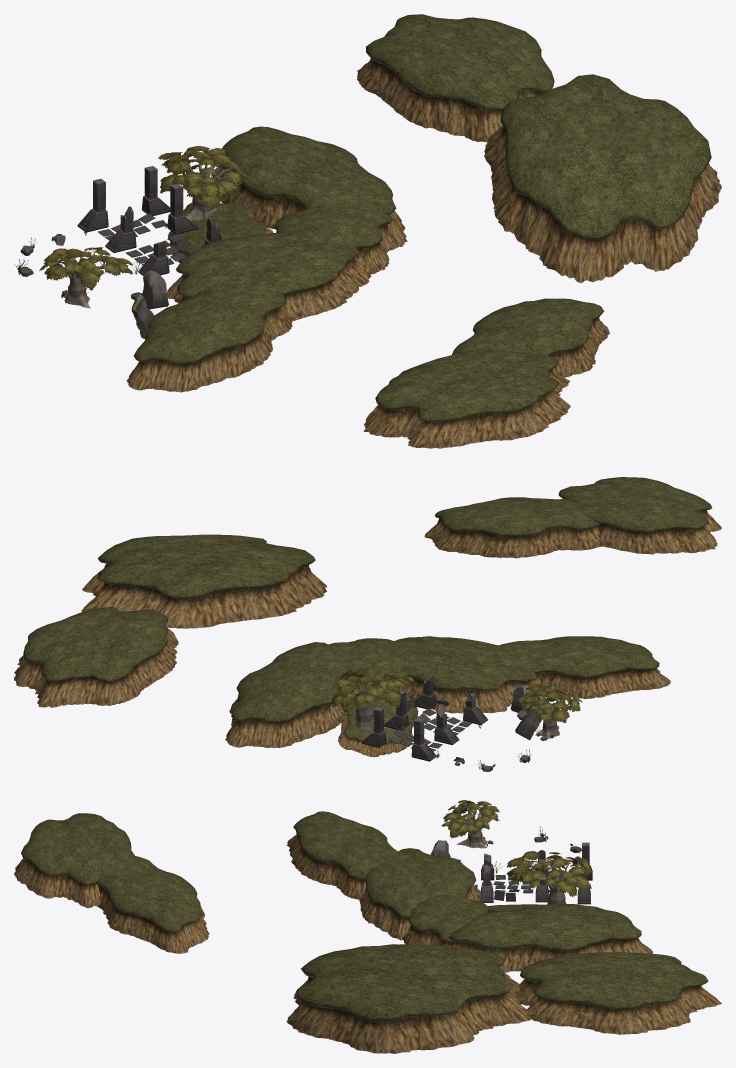
Rendered from env_dan_jedi_grove_pre.glb.
The picture shows the model from 3 angles, top to bottom: view 1: azimuth 30°, elevation 25°; view 2: azimuth 150°, elevation 25°; view 3: azimuth 270°, elevation 25°; orthographic projection. The views are drawn at different scales.
Parts seen in each view (by area): view 1: dan_bluff_01_mesh (8), dan_bluff_01_mesh (9), dan_bluff_01_mesh (6), dan_bluff_01_mesh (2), dan_bluff_01_mesh (3), dan_bluff_01_mesh, dan_bluff_01_mesh (7), dan_bluff_01_mesh (1), dan_tree_01_mesh (1), dan_tree_01_mesh, dan_bluff_01_mesh (5), dan_pillar_01a_mesh (+4 smaller); view 2: dan_bluff_01_mesh (8), dan_bluff_01_mesh (9), dan_bluff_01_mesh (3), dan_bluff_01_mesh (6), dan_bluff_01_mesh (7), dan_bluff_01_mesh, dan_bluff_01_mesh (2), dan_tree_01_mesh (1), dan_bluff_01_mesh (1), dan_bluff_01_mesh (5), dan_tree_01_mesh, dan_pillar_01a_mesh (+4 smaller); view 3: dan_bluff_01_mesh (8), dan_bluff_01_mesh (9), dan_bluff_01_mesh (3), dan_bluff_01_mesh (6), dan_bluff_01_mesh (7), dan_bluff_01_mesh, dan_bluff_01_mesh (2), dan_bluff_01_mesh (1), dan_tree_01_mesh (1), dan_tree_01_mesh.
Part boxes in pixels (bbox=[...]): dan_bluff_01_mesh (8): bbox=[484, 74, 721, 283]; dan_bluff_01_mesh (9): bbox=[357, 14, 554, 142]; dan_bluff_01_mesh (6): bbox=[363, 348, 570, 448]; dan_bluff_01_mesh (2): bbox=[127, 283, 292, 392]; dan_bluff_01_mesh (3): bbox=[212, 126, 407, 246]; dan_bluff_01_mesh: bbox=[167, 232, 371, 320]; dan_bluff_01_mesh (7): bbox=[452, 298, 609, 377]; dan_bluff_01_mesh (1): bbox=[273, 205, 398, 274]; dan_tree_01_mesh (1): bbox=[158, 146, 247, 220]; dan_tree_01_mesh: bbox=[39, 247, 133, 308]; dan_bluff_01_mesh (5): bbox=[167, 202, 273, 262]; dan_pillar_01a_mesh: bbox=[77, 178, 108, 232]; dan_bluff_01_mesh (8): bbox=[81, 534, 327, 628]; dan_bluff_01_mesh (9): bbox=[14, 607, 178, 707]; dan_bluff_01_mesh (3): bbox=[225, 642, 352, 748]; dan_bluff_01_mesh (6): bbox=[558, 477, 721, 554]; dan_bluff_01_mesh (7): bbox=[424, 497, 601, 558]; dan_bluff_01_mesh: bbox=[395, 636, 546, 713]; dan_bluff_01_mesh (2): bbox=[498, 636, 670, 698]; dan_tree_01_mesh (1): bbox=[332, 668, 415, 730]; dan_bluff_01_mesh (1): bbox=[329, 638, 410, 693]; dan_bluff_01_mesh (5): bbox=[338, 695, 418, 757]; dan_tree_01_mesh: bbox=[517, 682, 581, 738]; dan_pillar_01a_mesh: bbox=[411, 718, 436, 761]; dan_bluff_01_mesh (8): bbox=[286, 944, 531, 1053]; dan_bluff_01_mesh (9): bbox=[516, 952, 721, 1034]; dan_bluff_01_mesh (3): bbox=[448, 904, 653, 972]; dan_bluff_01_mesh (6): bbox=[14, 813, 134, 908]; dan_bluff_01_mesh (7): bbox=[96, 855, 209, 953]; dan_bluff_01_mesh: bbox=[359, 848, 480, 940]; dan_bluff_01_mesh (2): bbox=[286, 811, 398, 899]; dan_bluff_01_mesh (1): bbox=[403, 894, 489, 947]; dan_tree_01_mesh (1): bbox=[507, 851, 592, 904]; dan_tree_01_mesh: bbox=[441, 800, 499, 848].
Size of what is drawn, in the model's own units: 87.65 by 15.51 by 107.
Materials: 12 (12 with a texture image).
